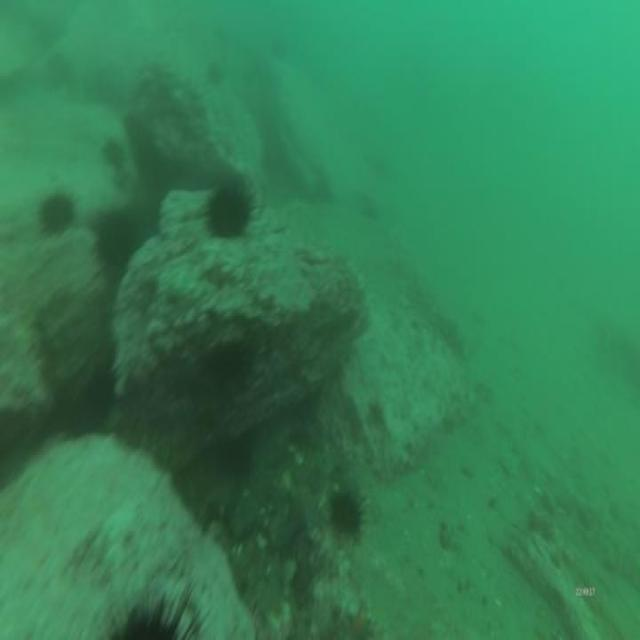echinus: (103, 581, 210, 640), (201, 175, 258, 242), (90, 202, 138, 275), (327, 480, 369, 542), (37, 185, 79, 240), (212, 334, 249, 391), (44, 49, 72, 92), (99, 130, 125, 172), (202, 56, 226, 88)
holothurian: (0, 270, 59, 424)
starfish: (344, 594, 378, 640)
